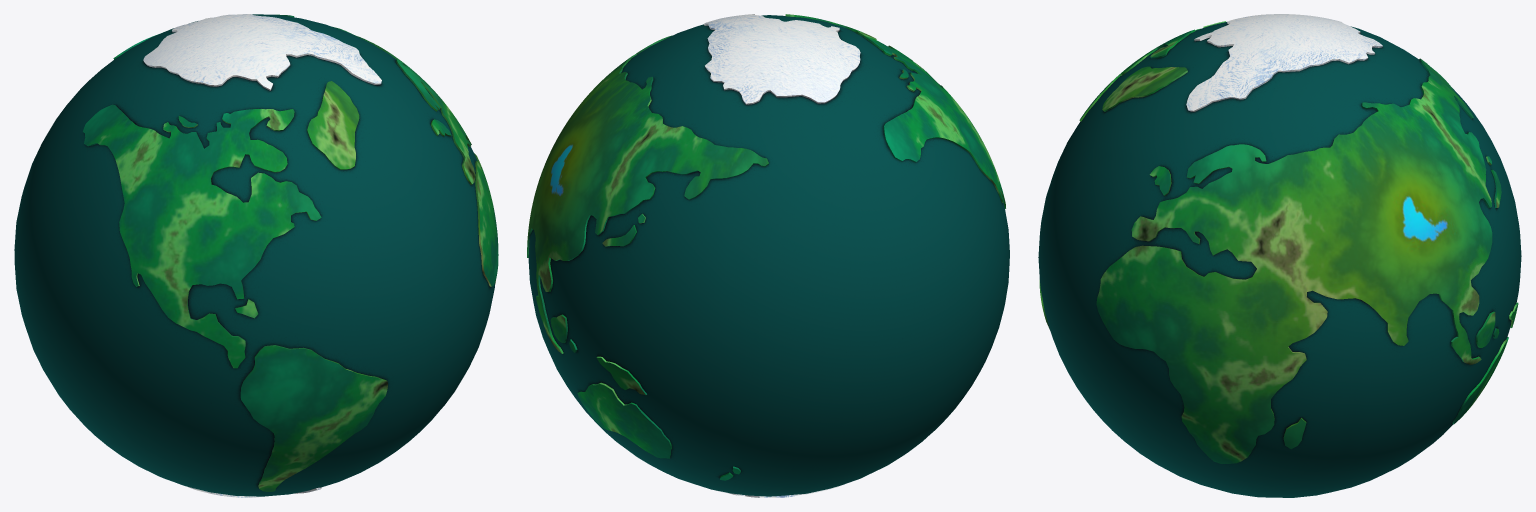
Rendered from Earth.fbx.
3 renders of one model, left to right at view 1: azimuth 30°, elevation 25°; view 2: azimuth 150°, elevation 25°; view 3: azimuth 270°, elevation 25°, orthographic.
Visible parts, largest first — view 1: Ocean, CONT_Extrude, SP_Extrude; view 2: Ocean, CONT_Extrude, SP_Extrude; view 3: Ocean, CONT_Extrude, SP_Extrude.
Part boxes in pixels (x1,y1,x2,y2): Ocean: (14, 14, 495, 496); CONT_Extrude: (83, 14, 498, 491); SP_Extrude: (143, 14, 381, 90); Ocean: (528, 15, 1009, 496); CONT_Extrude: (527, 14, 1005, 480); SP_Extrude: (704, 14, 860, 104); Ocean: (1038, 22, 1521, 497); CONT_Extrude: (1039, 21, 1518, 463); SP_Extrude: (1186, 14, 1382, 111).
Bounding box in the file's own units: 997 × 1000 × 994.
Materials: 4 (4 with a texture image).
